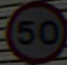Speed limit: (8, 1, 62, 56)
